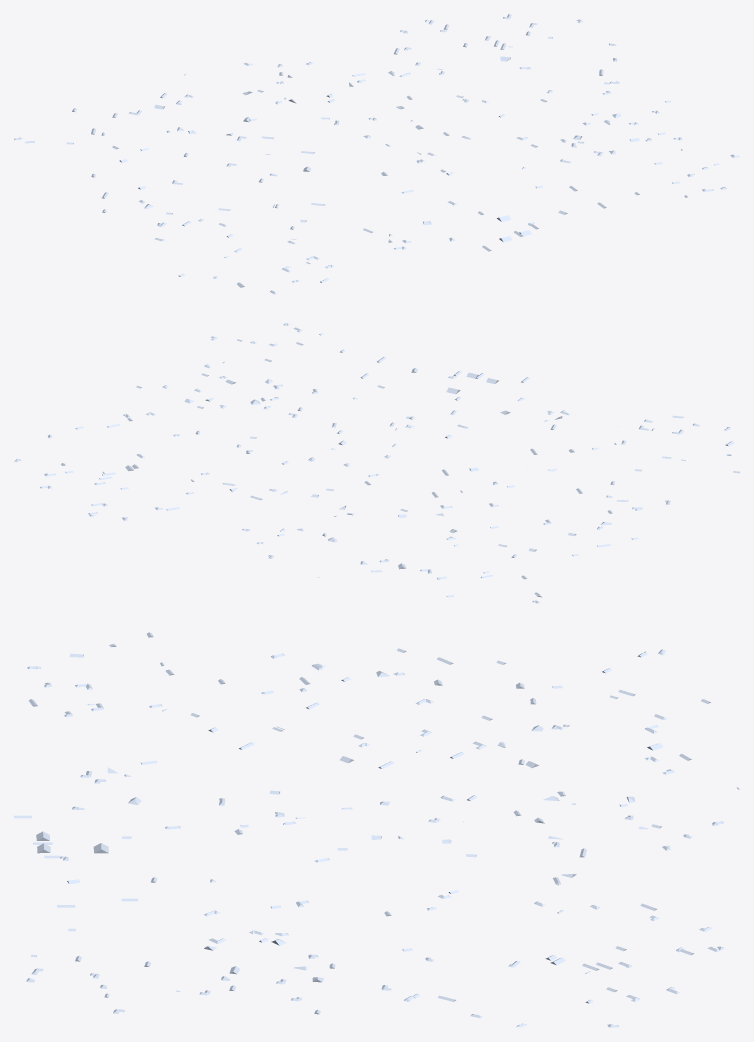
The model's file is FaitageZinc_3.obj.
The picture shows the model from 3 angles, top to bottom: view 1: azimuth 30°, elevation 25°; view 2: azimuth 150°, elevation 25°; view 3: azimuth 270°, elevation 25°; orthographic projection. The views are drawn at different scales.
Parts seen in each view (by area): view 1: FaitageZinc_3; view 2: FaitageZinc_3; view 3: FaitageZinc_3.
Part boxes in pixels (left/top/right/bottom): FaitageZinc_3: left=14, top=14, right=739, bottom=294; FaitageZinc_3: left=14, top=323, right=739, bottom=603; FaitageZinc_3: left=14, top=632, right=739, bottom=1027.
Size of the model in its own units: 2461 by 77.34 by 1944.
